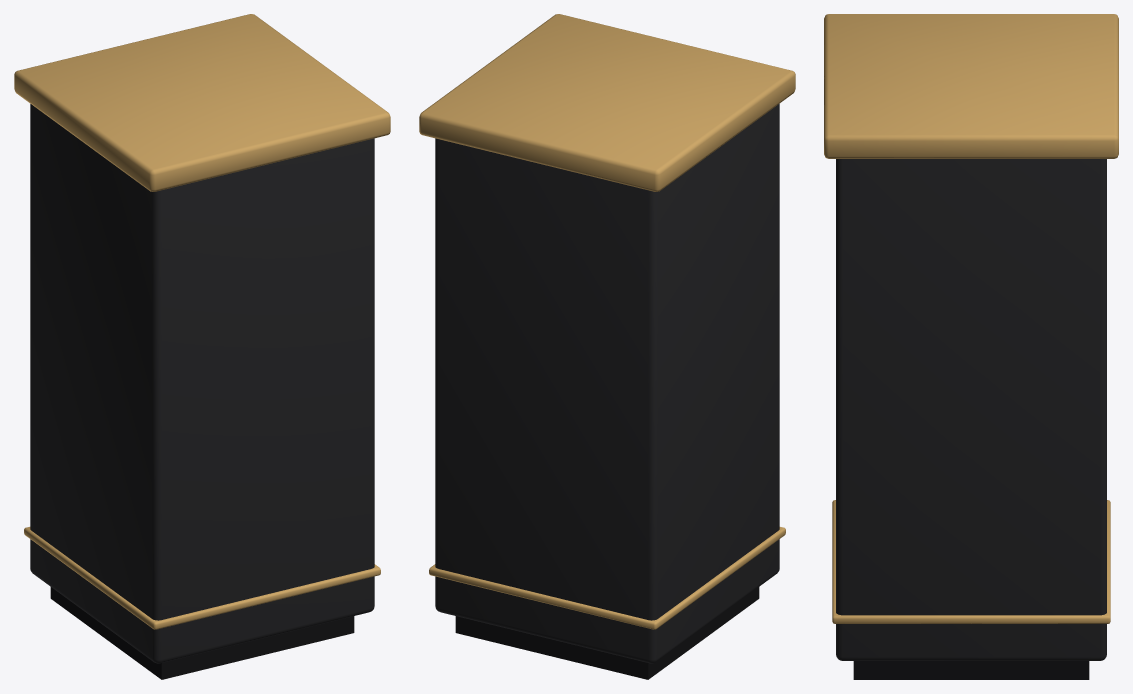
File: plinth_marble.glb
3 views of the same model, side by side, from view 1: azimuth 30°, elevation 25°; view 2: azimuth 150°, elevation 25°; view 3: azimuth 270°, elevation 25° (orthographic). The views are drawn at different scales.
Parts seen in each view (by area): view 1: Shaft_LOD0, Cap_LOD0, Foot_LOD0, Band_LOD0; view 2: Shaft_LOD0, Cap_LOD0, Foot_LOD0, Band_LOD0; view 3: Shaft_LOD0, Cap_LOD0, Foot_LOD0, Band_LOD0.
Part boxes in pixels (<box>): Shaft_LOD0: <box>30,104,374,663</box>; Cap_LOD0: <box>14,14,390,191</box>; Foot_LOD0: <box>50,587,354,679</box>; Band_LOD0: <box>24,527,380,629</box>; Shaft_LOD0: <box>435,104,779,663</box>; Cap_LOD0: <box>419,14,795,191</box>; Foot_LOD0: <box>455,587,759,679</box>; Band_LOD0: <box>429,527,785,629</box>; Shaft_LOD0: <box>836,159,1106,660</box>; Cap_LOD0: <box>824,14,1118,158</box>; Foot_LOD0: <box>853,661,1089,679</box>; Band_LOD0: <box>832,500,1110,623</box>.
Bounding box in the file's own units: 0.5 × 1.04 × 0.5.
